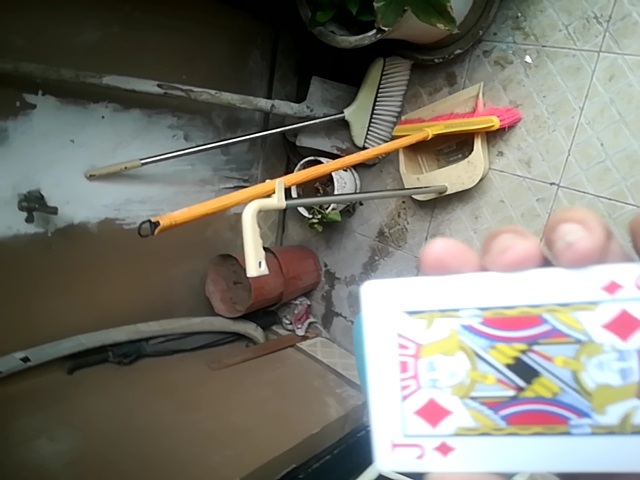fk j: (359, 258, 637, 477)
